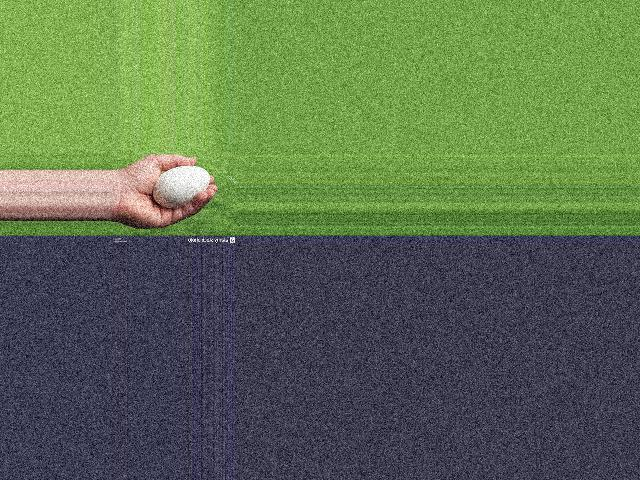egg: (151, 165, 209, 209)
